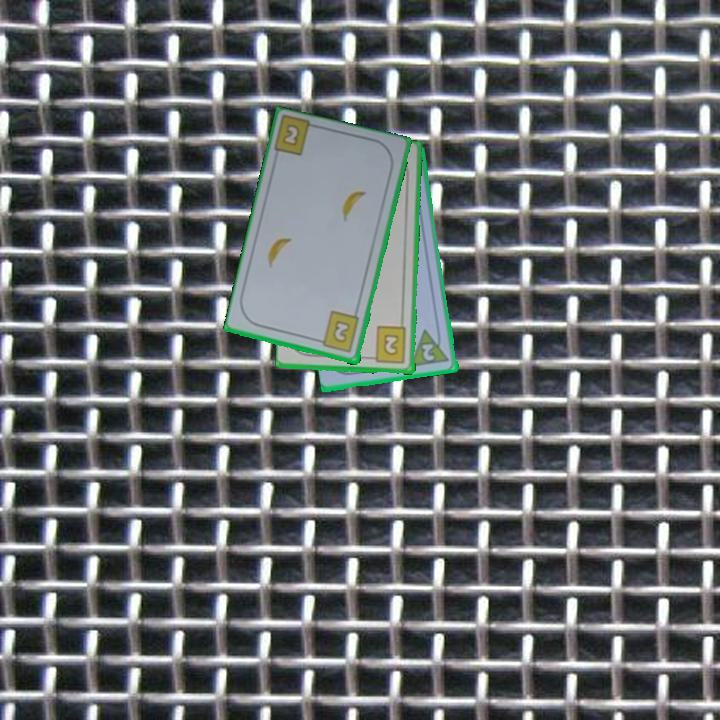2b: (314, 308, 362, 356), (366, 324, 409, 366), (279, 123, 301, 149)
2p: (418, 340, 438, 364)
